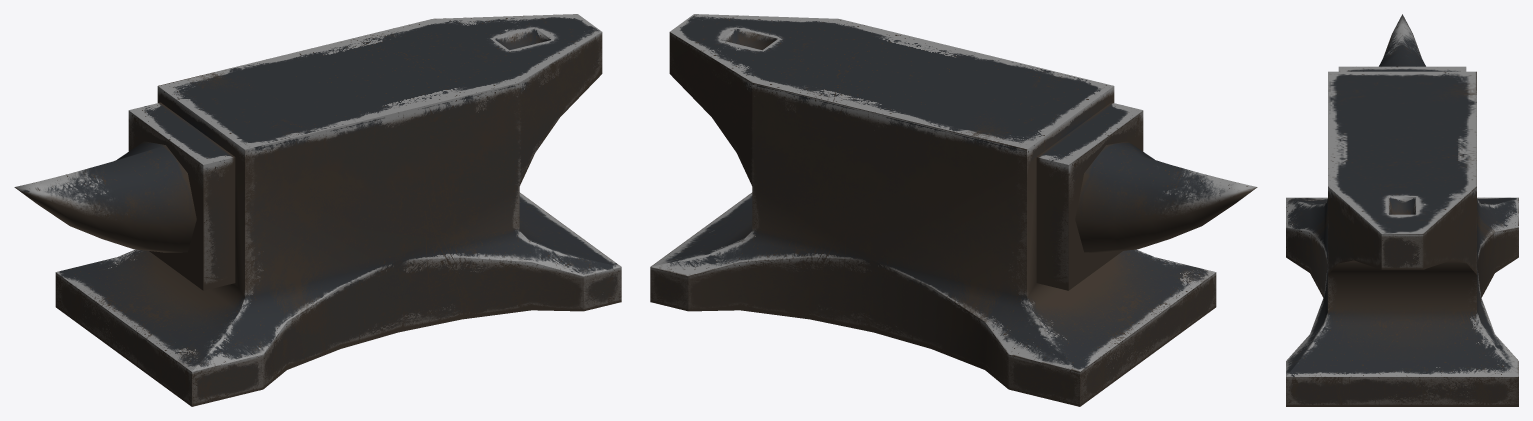
Rendered from anvil.FBX.
The picture shows the model from 3 angles, left to right: view 1: azimuth 30°, elevation 25°; view 2: azimuth 150°, elevation 25°; view 3: azimuth 270°, elevation 25°; orthographic projection. The views are drawn at different scales.
Visible parts, largest first — view 1: Anvil_LP; view 2: Anvil_LP; view 3: Anvil_LP.
Boxes of the visible parts, x1,y1,x2,y2 form: Anvil_LP: [14, 14, 621, 406]; Anvil_LP: [650, 14, 1257, 406]; Anvil_LP: [1286, 14, 1518, 406].
Bounding box in the file's own units: 108 × 39.38 × 44.14.
